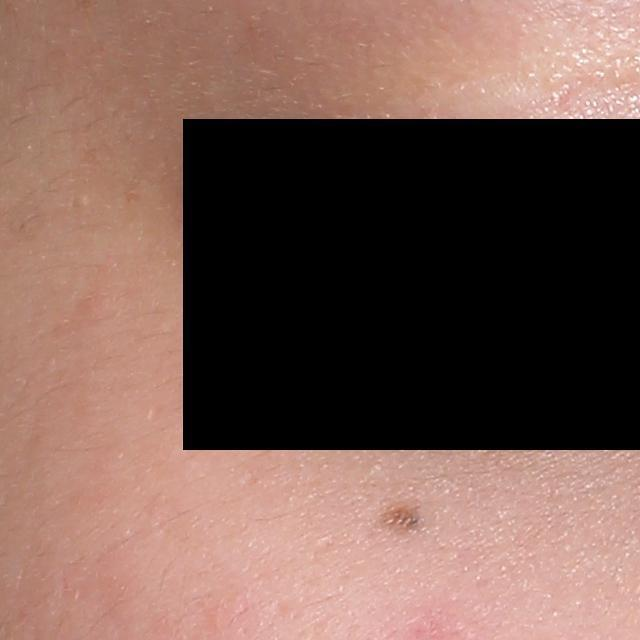nevus: (380, 505, 425, 532)
